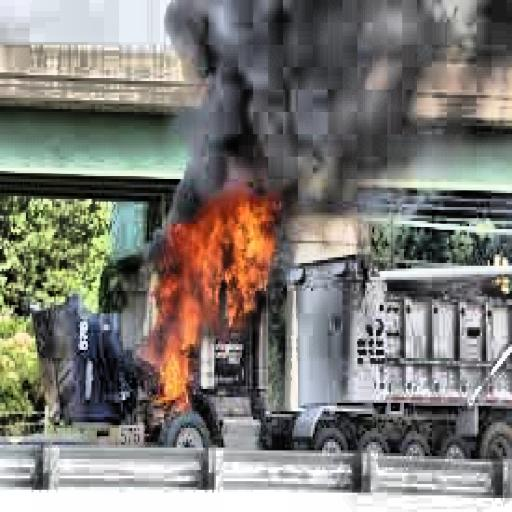fire: (140, 196, 283, 394)
